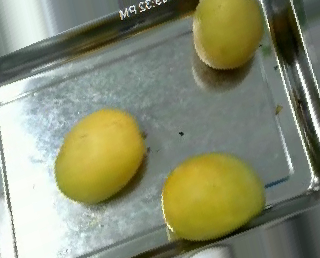Mango: (160, 150, 272, 242), (53, 107, 148, 204), (188, 0, 267, 72)
